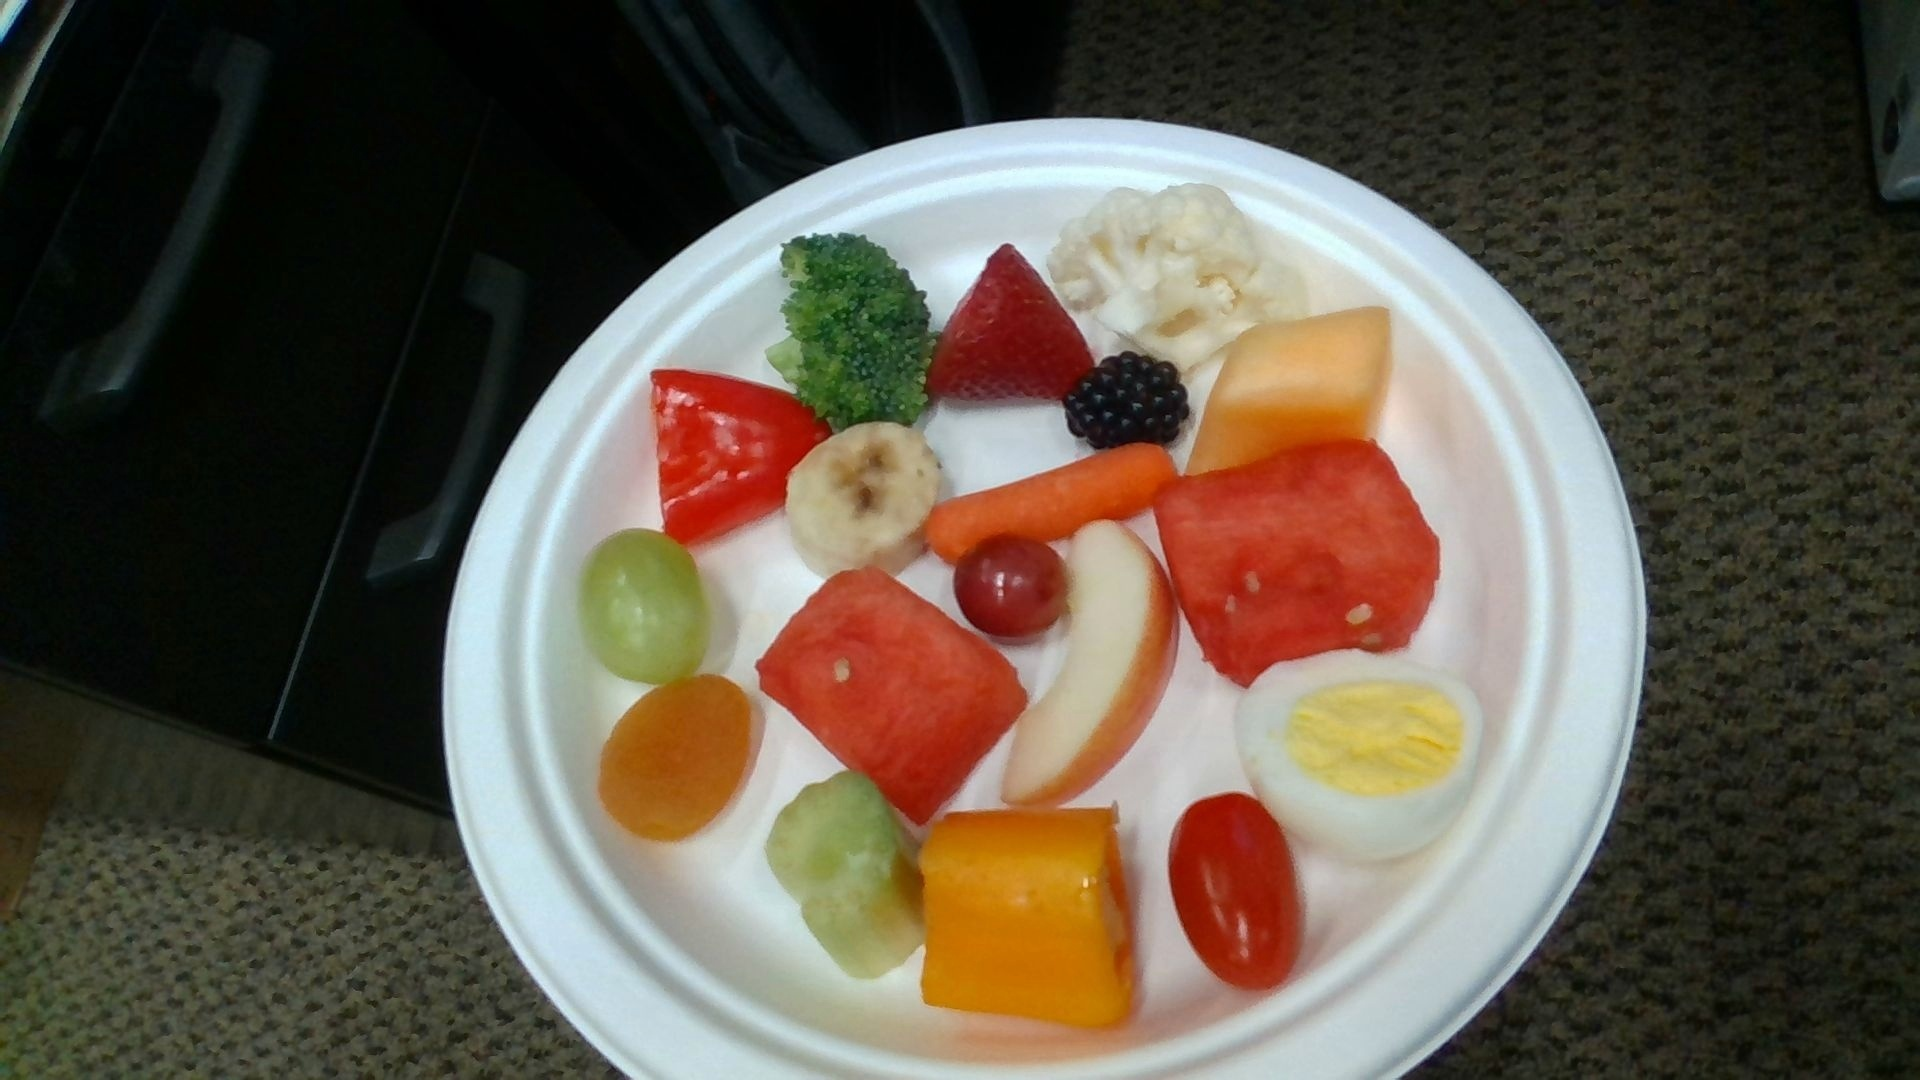apple: (1007, 524, 1179, 808)
apricot: (600, 676, 750, 836)
banana: (787, 423, 940, 570)
bell_pepper: (919, 810, 1135, 1026), (650, 368, 829, 545)
blackberry: (1065, 355, 1189, 448)
broccoli: (769, 236, 927, 425)
cantalope: (1187, 311, 1393, 473)
carrot: (927, 444, 1174, 560)
cauliflower: (1050, 185, 1270, 365)
celery: (767, 773, 922, 981)
cherry_tomato: (1170, 795, 1298, 988)
egg: (1237, 650, 1482, 851)
grape_green: (587, 533, 707, 683)
grape_purple: (955, 535, 1069, 633)
melon: (1155, 440, 1439, 683), (764, 571, 1022, 811)
strawberry: (928, 248, 1095, 400)
